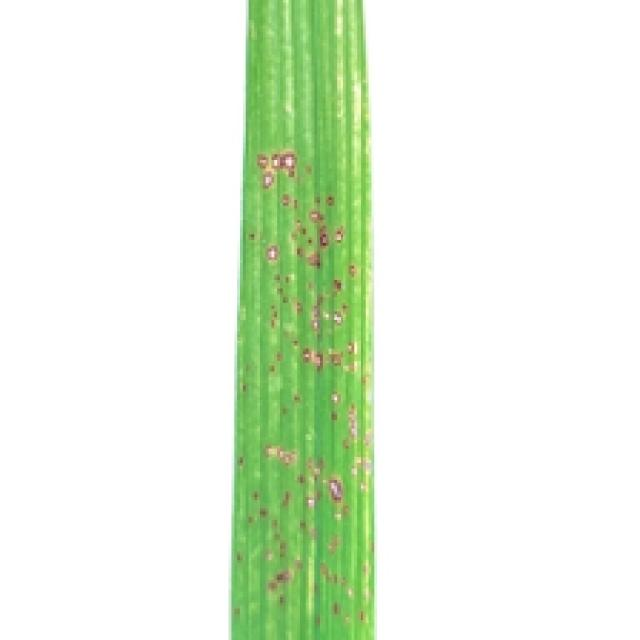Rice___Brown_Spot: (230, 0, 379, 637)
